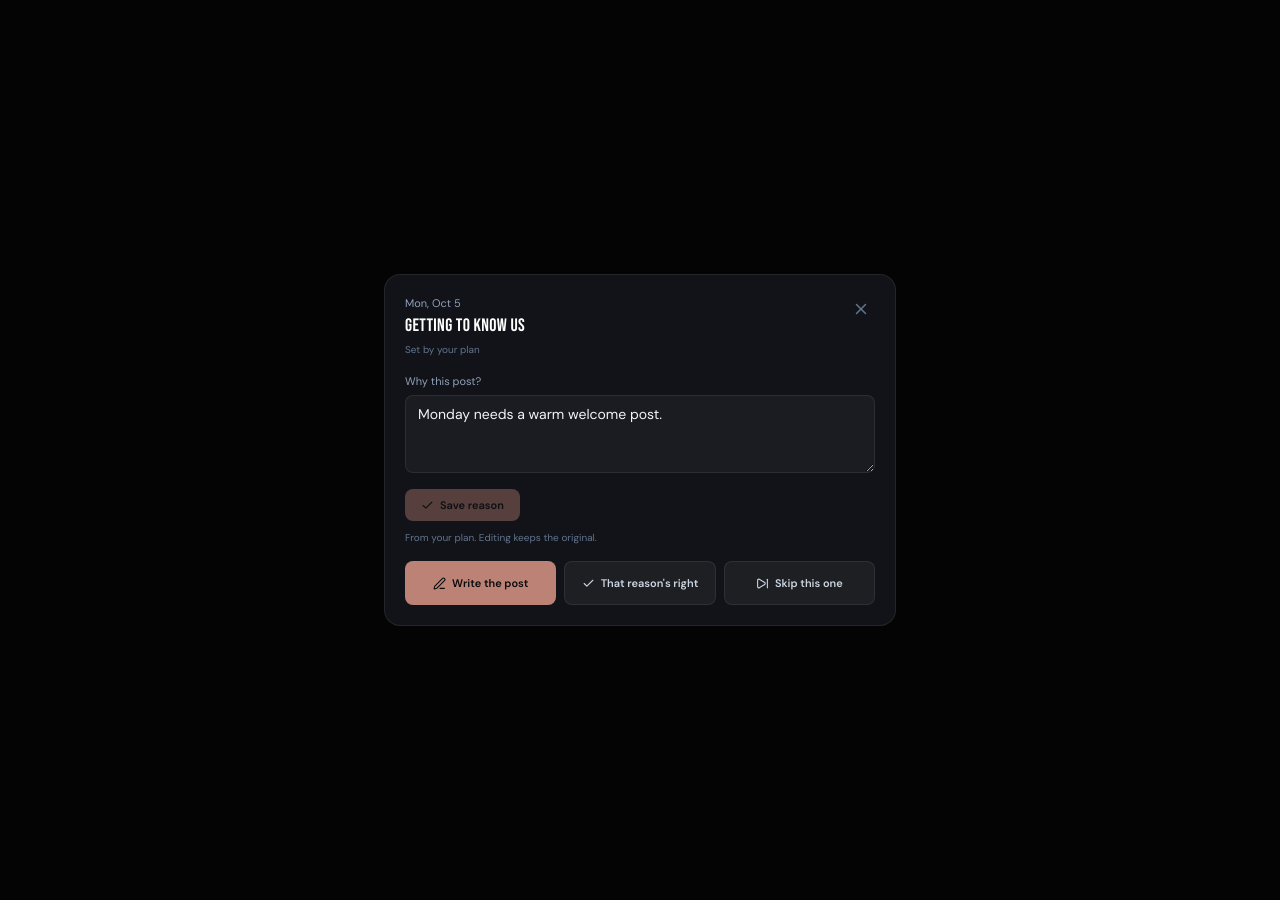
Test: SlotPanel — saving persists and confirms › drops the confirmation as soon as she types again
The width and height of the screenshot is (1280, 900).
Replace the text in the text box labelled "Why this post?" with "Because our Monday regulars bring friends." at (640,434), box top-left (405, 395), bottom-right (875, 473)
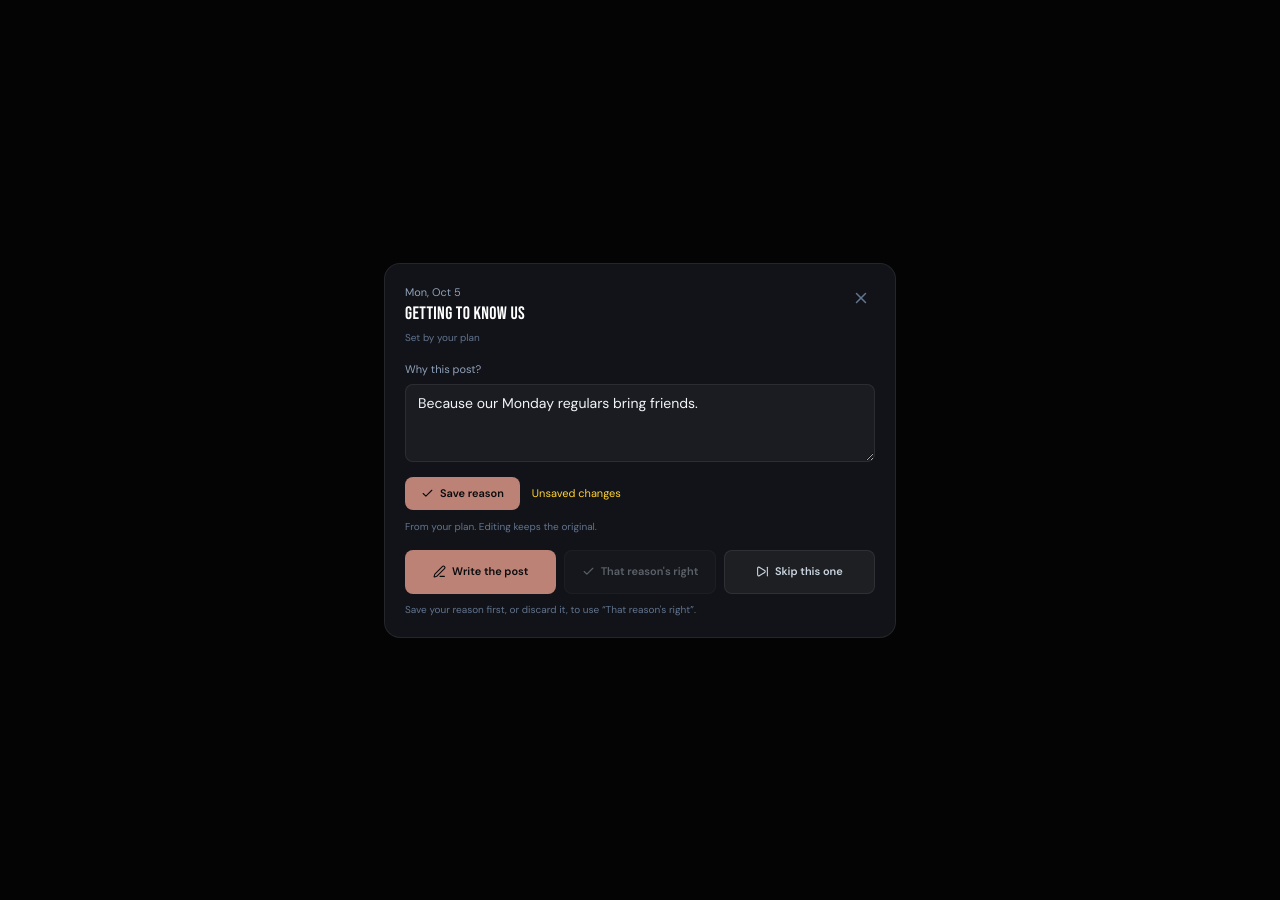
Click the button "Save reason" at (462,494), box top-left (405, 477), bottom-right (520, 510)
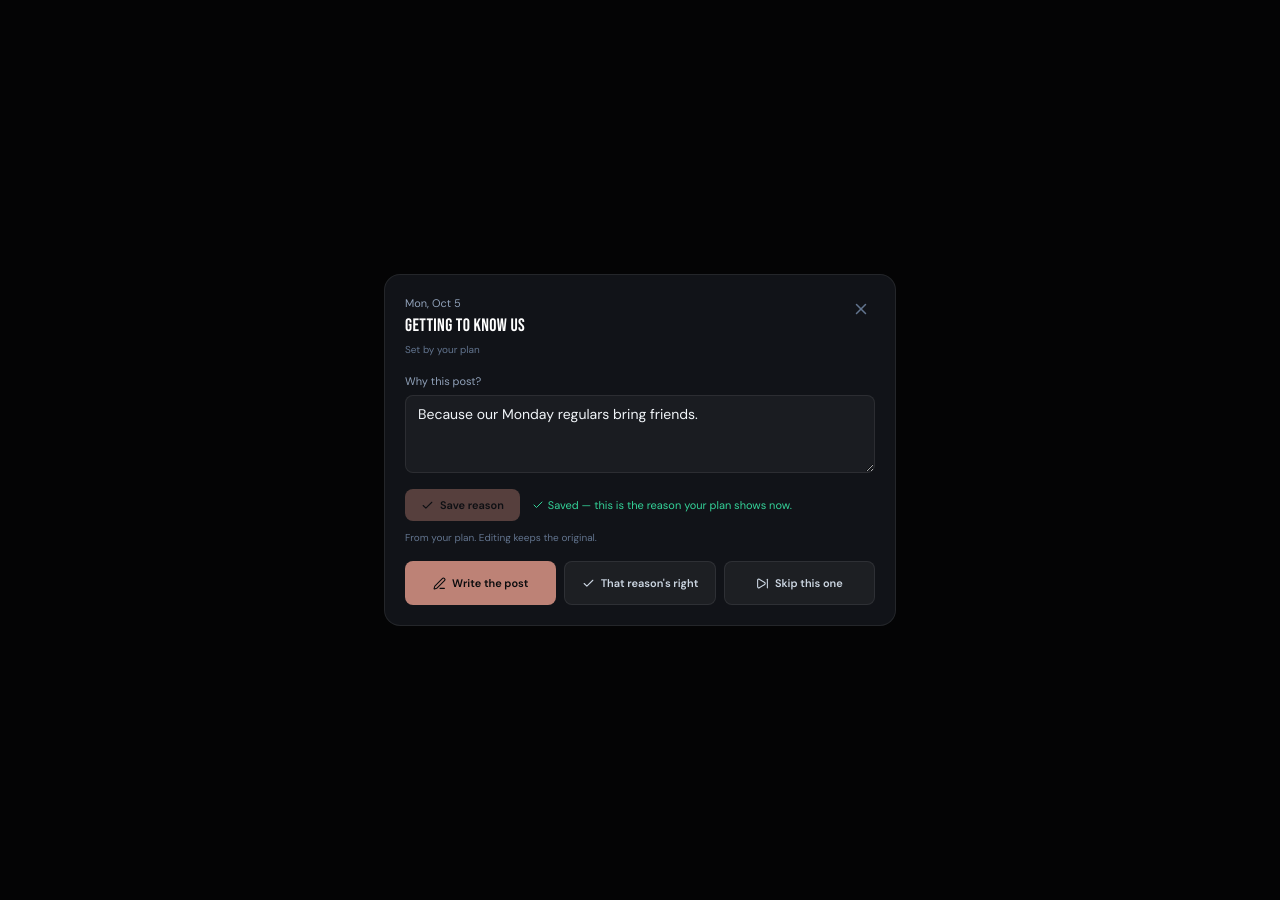
Expected: the text "Saved — this is the reason your plan shows now." is shown, top-left (532, 497), bottom-right (792, 513)
Replace the text in the text box labelled "Why this post?" with "Because our Monday regulars bring friends, and it works." at (640,434), box top-left (405, 395), bottom-right (875, 473)
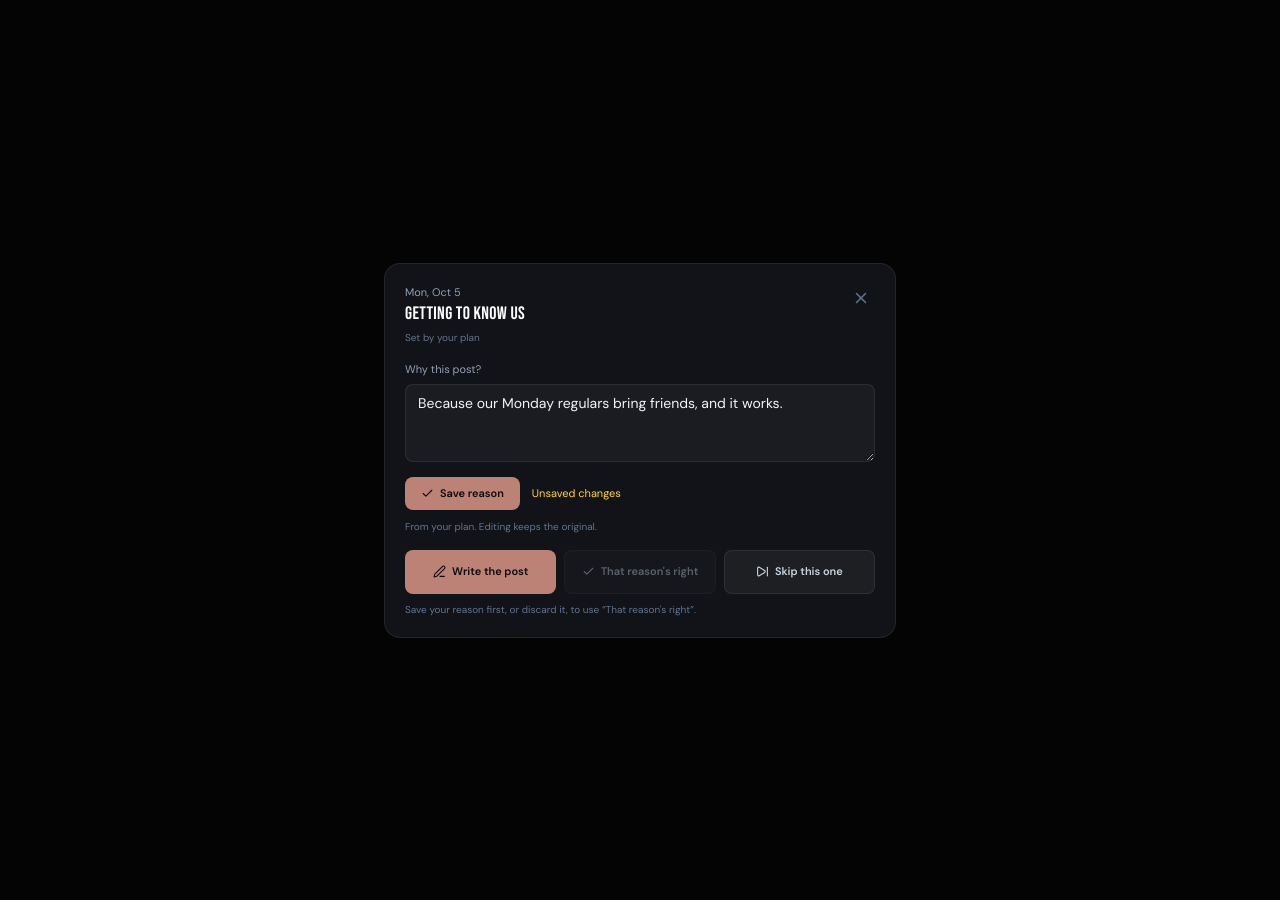
Expected: the text "Unsaved changes" is shown, top-left (532, 485), bottom-right (621, 502)
